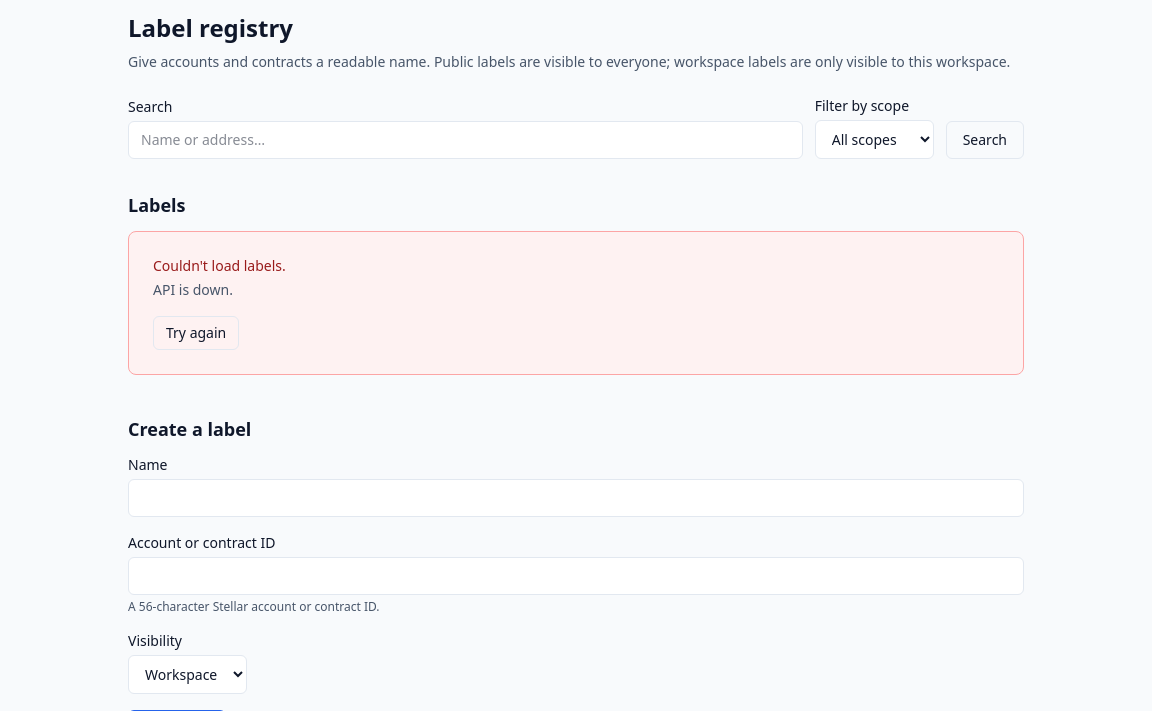
Test: Label registry page › offers a retry when the registry cannot be loaded
Expected: the text "Couldn't load labels." is shown, [153,256,286,275]
Expected: the text "API is down." is shown, [153,280,233,299]
Click the button "Try again" at (196, 333), box [153,316,239,350]
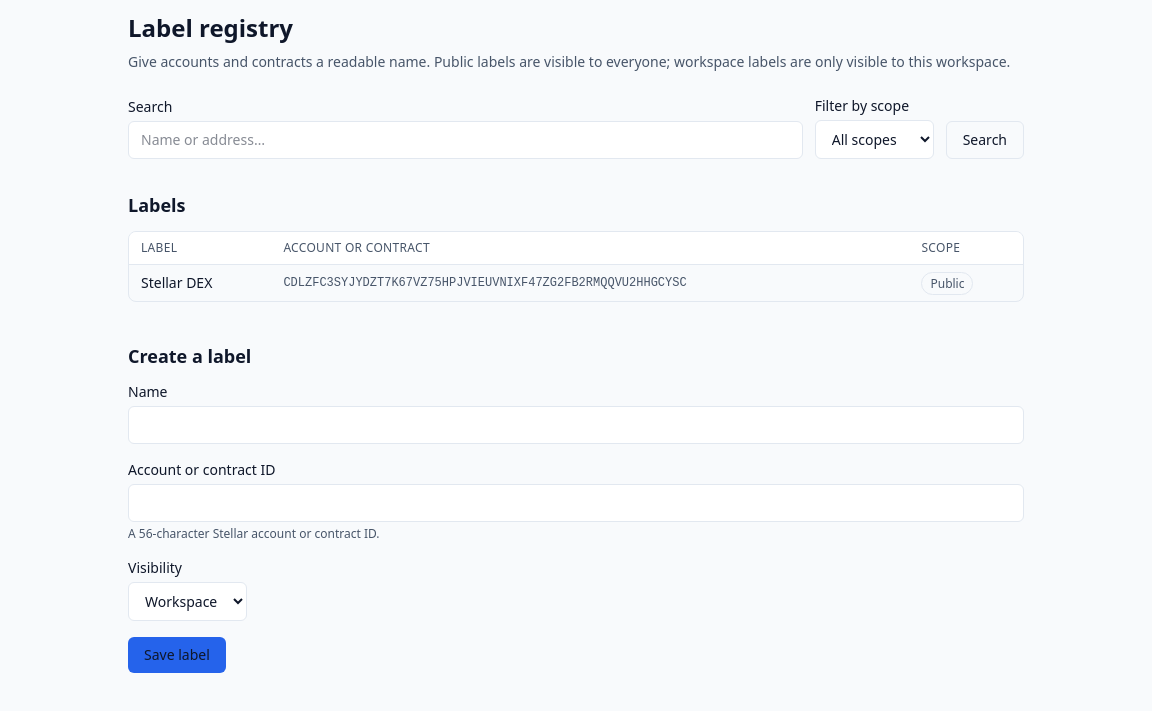
Expected: the row with test id "label-row" is shown, [129,264,1023,301]
